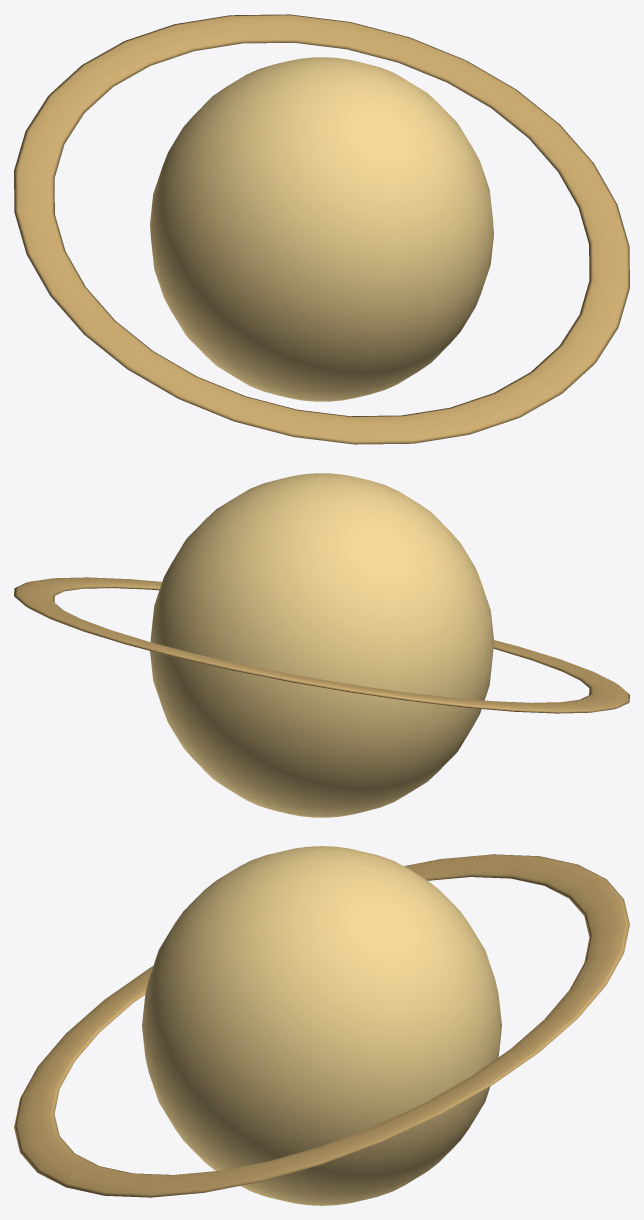
The model's file is planet_saturn.glb.
3 views of the same model, one above another, from view 1: azimuth 30°, elevation 25°; view 2: azimuth 150°, elevation 25°; view 3: azimuth 270°, elevation 25° (orthographic). The views are drawn at different scales.
Parts seen in each view (by area): view 1: planet_saturn; view 2: planet_saturn; view 3: planet_saturn.
Boxes of the visible parts, <box> form: planet_saturn: <box>14,14,629,444</box>; planet_saturn: <box>14,473,629,817</box>; planet_saturn: <box>14,846,629,1205</box>.
Size of the model in its own units: 1.2 by 0.66 by 1.13.
